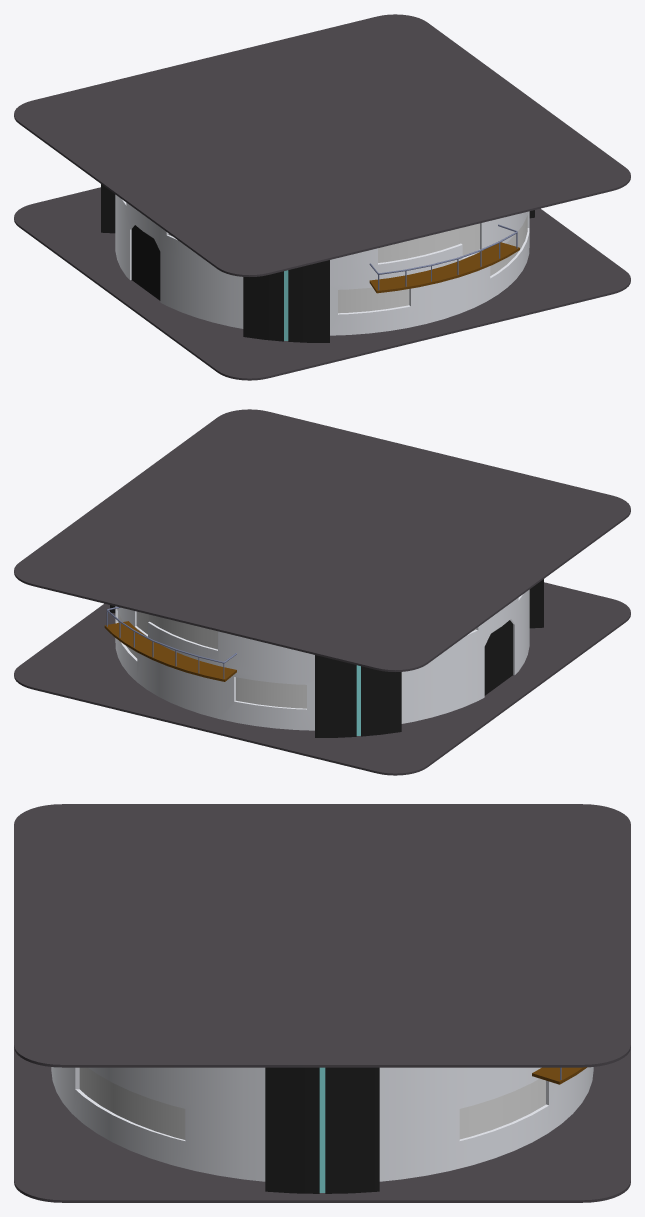
3 renders of one model, top to bottom at view 1: azimuth 30°, elevation 25°; view 2: azimuth 150°, elevation 25°; view 3: azimuth 270°, elevation 25°, orthographic. The views are drawn at different scales.
Parts seen in each view (by area): view 1: Bui5_Base; view 2: Bui5_Base; view 3: Bui5_Base.
Boxes of the visible parts, <box> form: Bui5_Base: <box>14,14,630,380</box>; Bui5_Base: <box>14,409,630,775</box>; Bui5_Base: <box>14,804,630,1202</box>.
Bounding box in the file's own units: 2100 × 518 × 2100.
